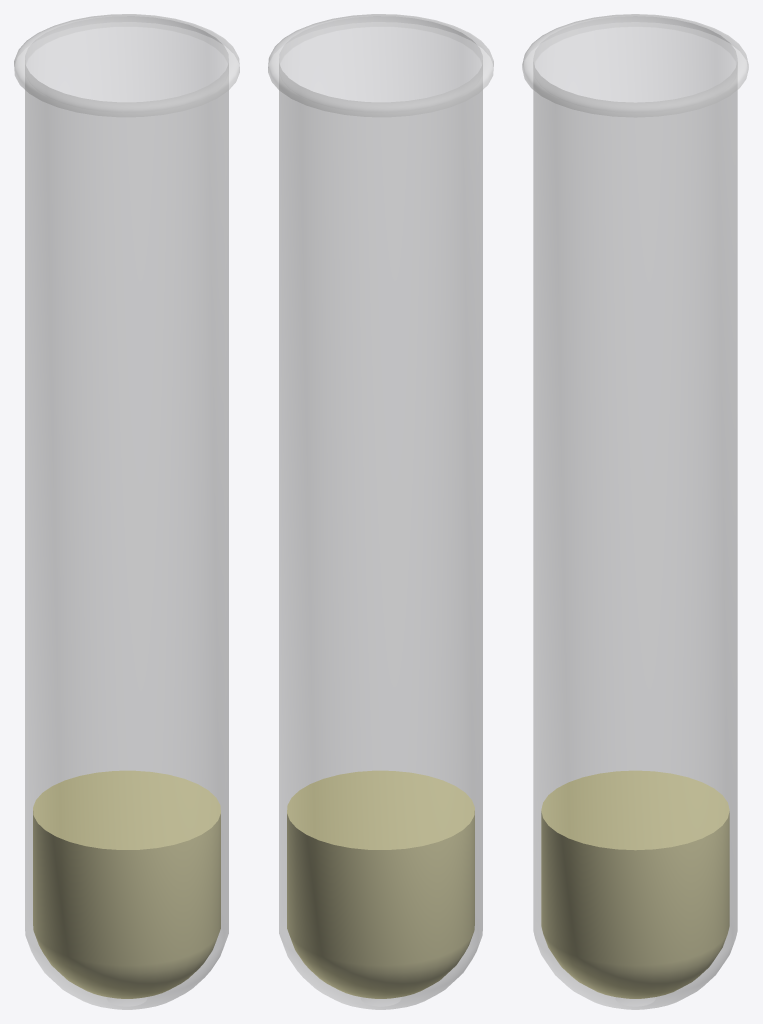
File: Hasil aquades +sample.fbx
3 renders of one model, left to right at view 1: azimuth 30°, elevation 25°; view 2: azimuth 150°, elevation 25°; view 3: azimuth 270°, elevation 25°, orthographic.
Visible parts, largest first — view 1: tabung reaksi.006, tabung reaksi.004; view 2: tabung reaksi.006, tabung reaksi.004; view 3: tabung reaksi.006, tabung reaksi.004.
Boxes of the visible parts, box(x1,y1,x2,y2) form: tabung reaksi.006: box(14, 14, 239, 1009); tabung reaksi.004: box(33, 770, 220, 998); tabung reaksi.006: box(268, 14, 493, 1009); tabung reaksi.004: box(287, 770, 474, 998); tabung reaksi.006: box(522, 14, 748, 1009); tabung reaksi.004: box(541, 770, 729, 998).
Bounding box in the file's own units: 2.06 × 9.43 × 2.06.
